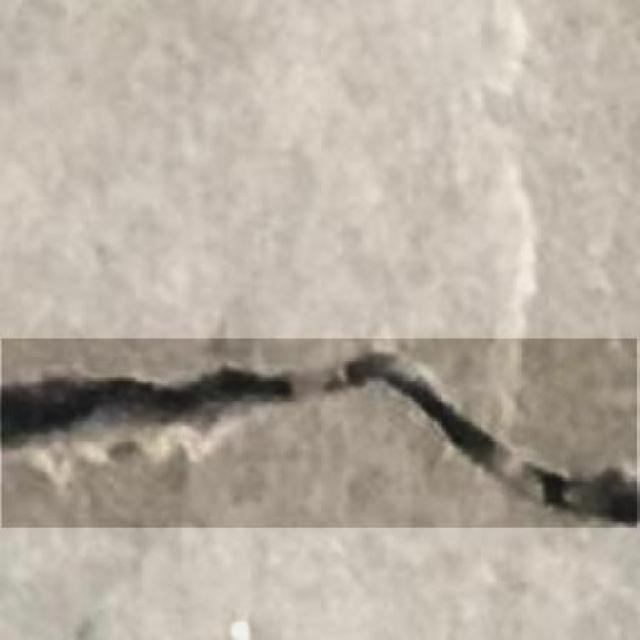crack: (0, 330, 640, 526)
